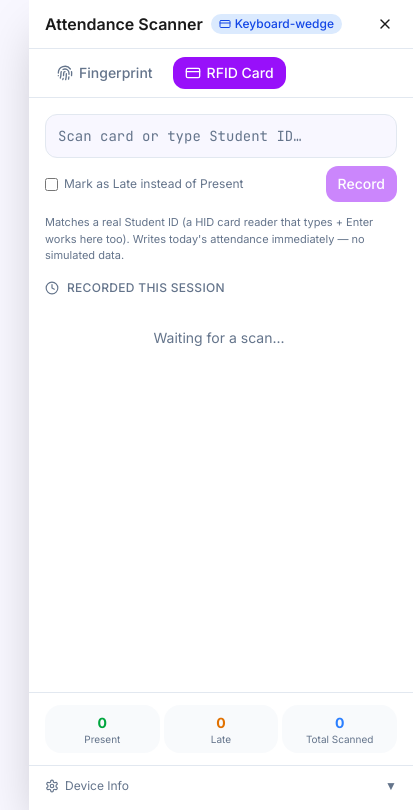
Test case: BiometricAttendance › records a Present attendance entry for a matched student ID
In the field with placeholder "Scan card or type Student ID…": (221, 136) [45,114,397,158], type "STU-1"
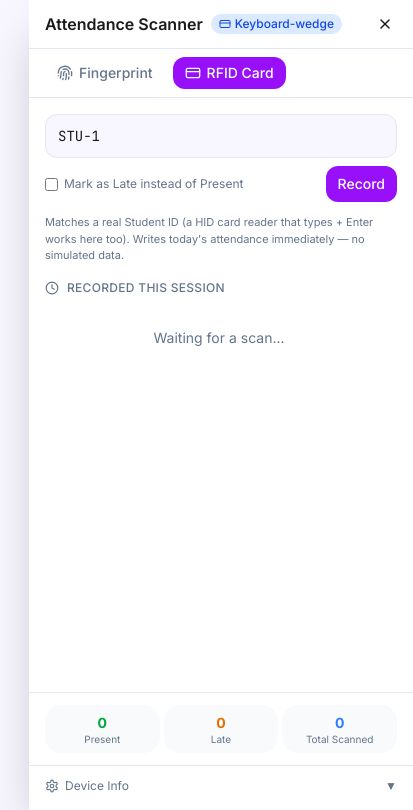
Click the button "Record": (361, 184) [326,166,397,202]
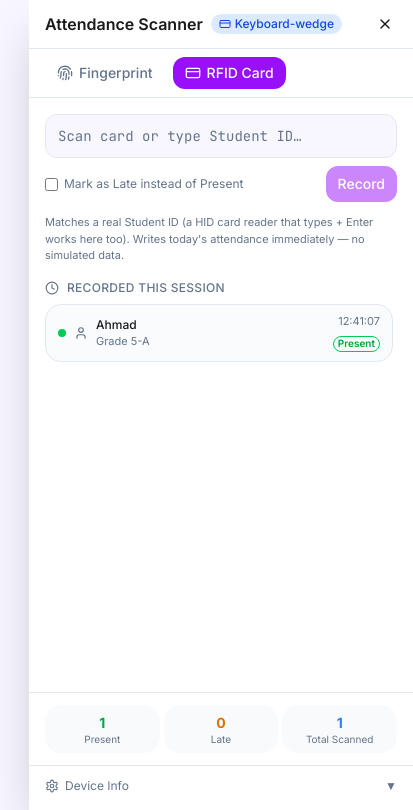
Expected: the text "Ahmad" is shown, [96,316,137,332]
